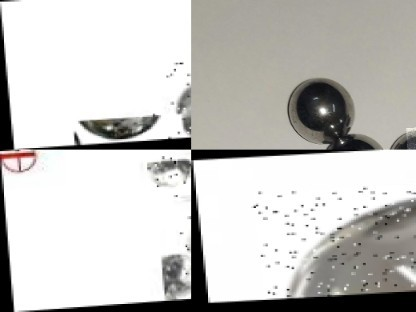ironball: (250, 184, 415, 300), (290, 74, 354, 143), (68, 113, 181, 146), (142, 155, 191, 202), (164, 61, 191, 140), (157, 253, 191, 303), (324, 130, 380, 149), (177, 217, 191, 269), (388, 130, 415, 150)
